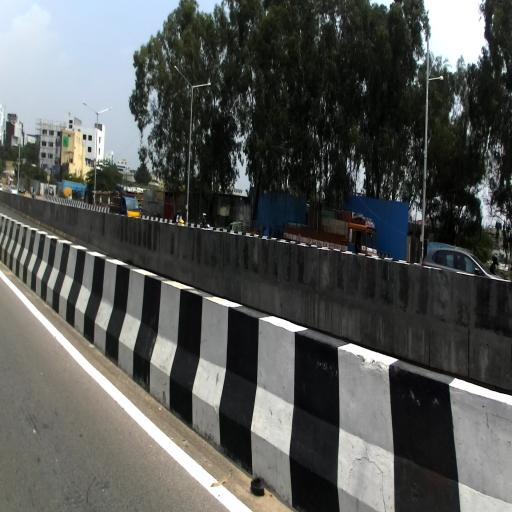street_light_0: (414, 0, 429, 42), (174, 66, 194, 89), (82, 102, 99, 115), (192, 82, 211, 91), (97, 106, 112, 116), (426, 75, 444, 82), (11, 121, 22, 130), (20, 124, 31, 132)
